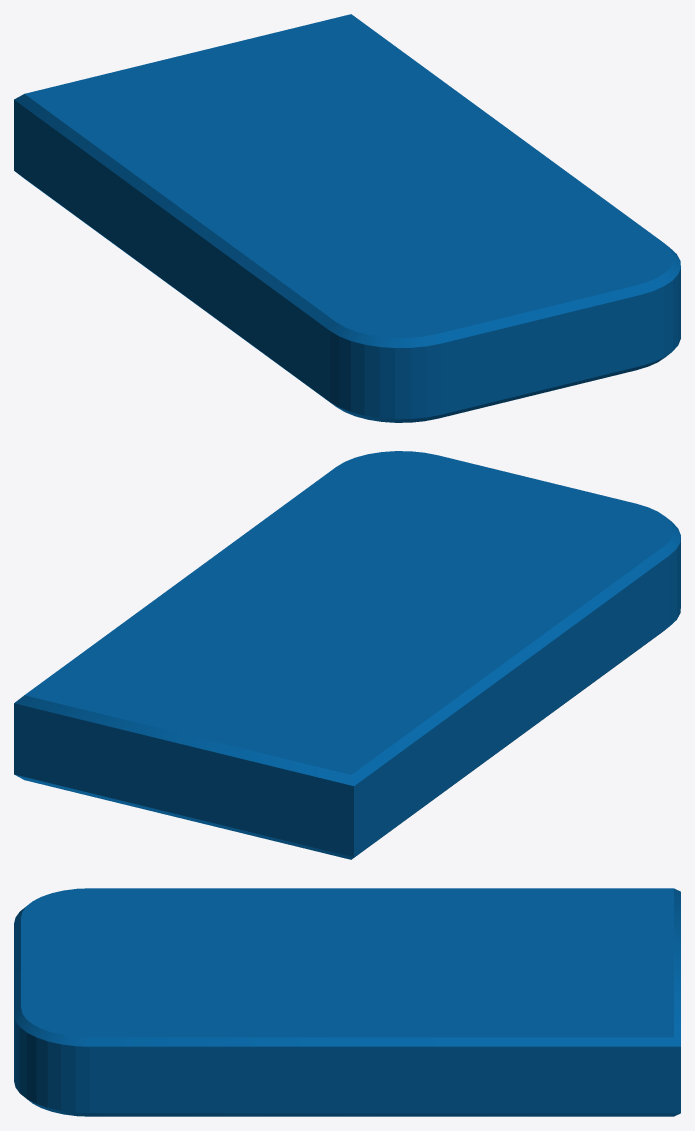
Rendered from side-board-blue.fbx.
3 renders of one model, top to bottom at view 1: azimuth 30°, elevation 25°; view 2: azimuth 150°, elevation 25°; view 3: azimuth 270°, elevation 25°, orthographic. The views are drawn at different scales.
Parts seen in each view (by area): view 1: Cube.022; view 2: Cube.022; view 3: Cube.022.
Boxes of the visible parts, bbox=[...] form: Cube.022: bbox=[14, 14, 680, 422]; Cube.022: bbox=[14, 451, 680, 859]; Cube.022: bbox=[14, 888, 680, 1116].
Size of the model in its own units: 82.52 by 19.69 by 150.
